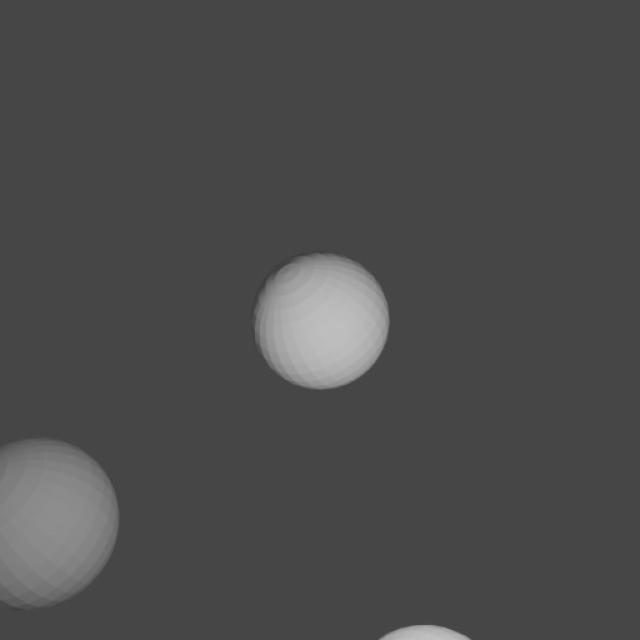Sphere: (0, 428, 121, 612), (251, 247, 391, 396), (379, 621, 470, 640)
